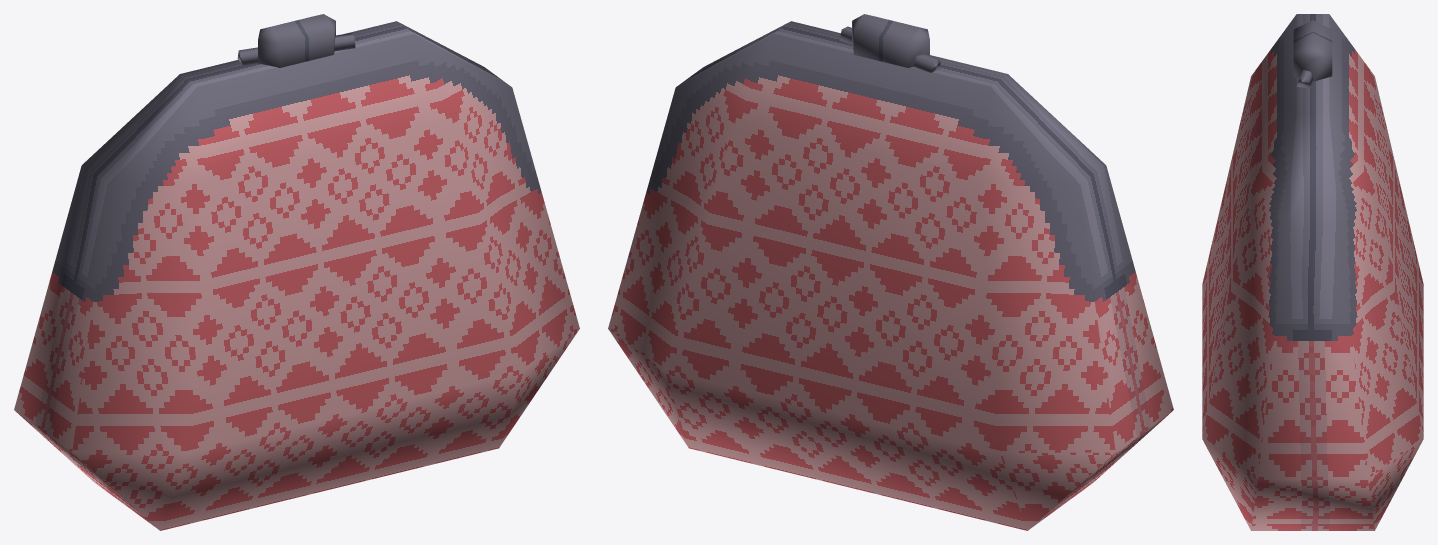
Rendered from 0522_Wallet.glb.
3 renders of one model, left to right at view 1: azimuth 30°, elevation 25°; view 2: azimuth 150°, elevation 25°; view 3: azimuth 270°, elevation 25°, orthographic. The views are drawn at different scales.
Parts seen in each view (by area): view 1: part_0; view 2: part_0; view 3: part_0.
Boxes of the visible parts, x1=… form: part_0: x1=14, y1=14, x2=579, y2=530; part_0: x1=608, y1=14, x2=1173, y2=530; part_0: x1=1202, y1=14, x2=1423, y2=530.
Size of the model in its own units: 0.1496 by 0.1253 by 0.0598.
Materials: 1 (1 with a texture image).
